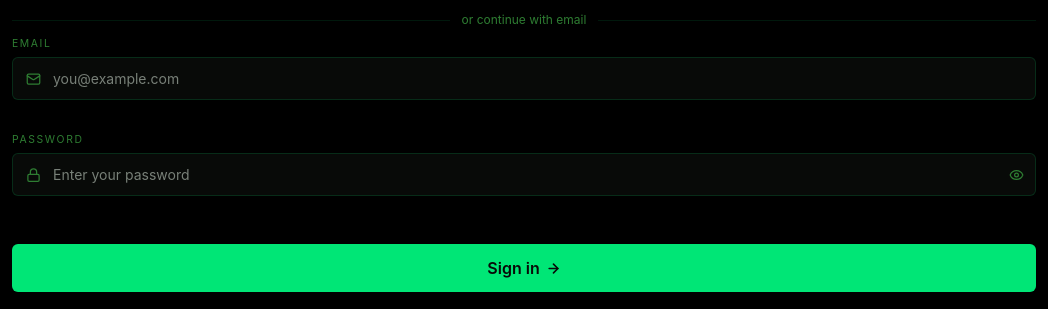
Test: AuthForm › validation errors › should display a validation error for a too-short password after submit
Type "a@b.com" into the field with placeholder "you@example.com" at (524,79), box [12,57,1036,100]
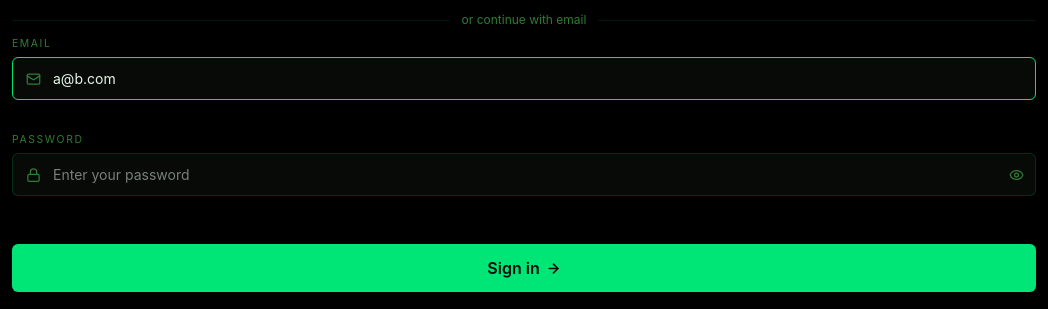
Type "123" into the password field with placeholder "Enter your password" at (524,175), box [12,153,1036,196]
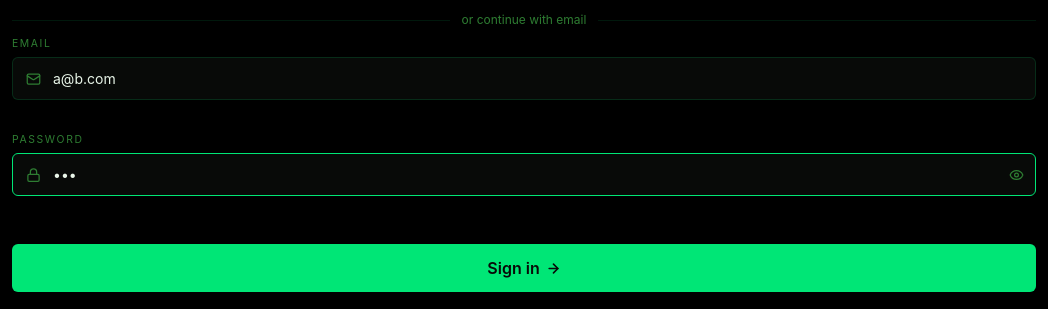
Click the button "Sign in" at (524,268), box [12,244,1036,292]
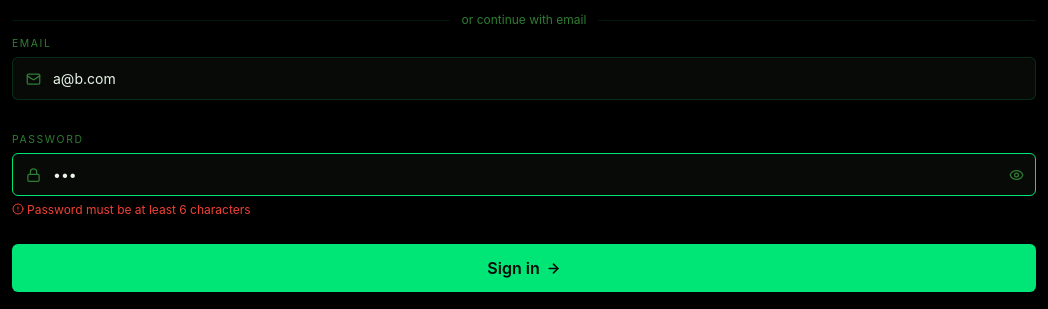
expect the text "Password must be at least 6 characters" is shown: met, box [12,202,251,217]
